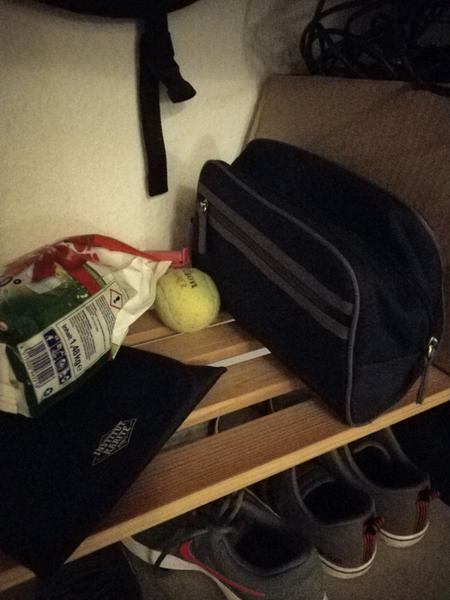Tennisball: (154, 264, 223, 335)
